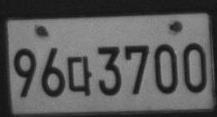0: (153, 42, 179, 94), (182, 42, 208, 94)
3: (97, 45, 122, 97)
6: (40, 46, 66, 98)
7: (123, 44, 149, 95)
9: (12, 47, 37, 98)
다: (67, 55, 92, 97)
